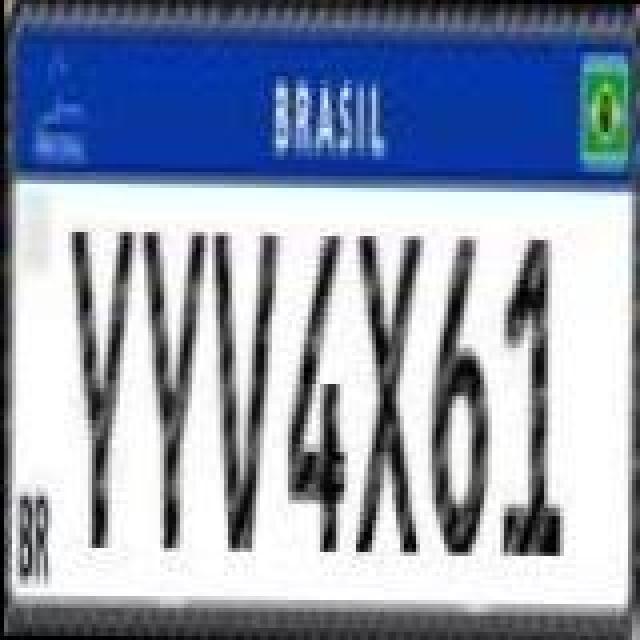1: (498, 234, 566, 558)
4: (278, 226, 346, 550)
6: (422, 232, 490, 556)
V: (208, 224, 280, 548)
X: (350, 232, 418, 556)
Y: (64, 226, 136, 550), (136, 228, 208, 552)
